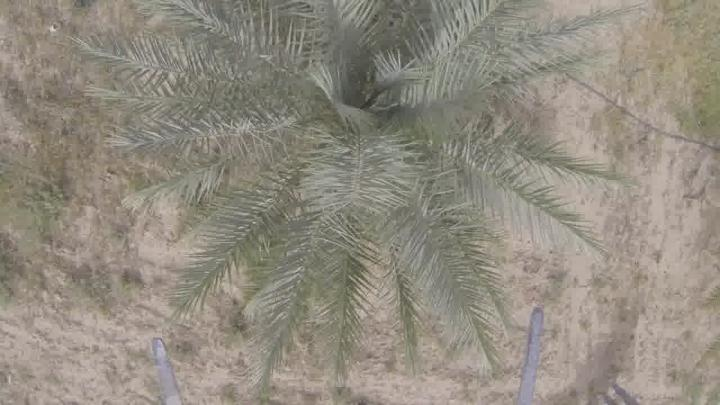Date-Palm-Crown: (225, 0, 499, 240)
